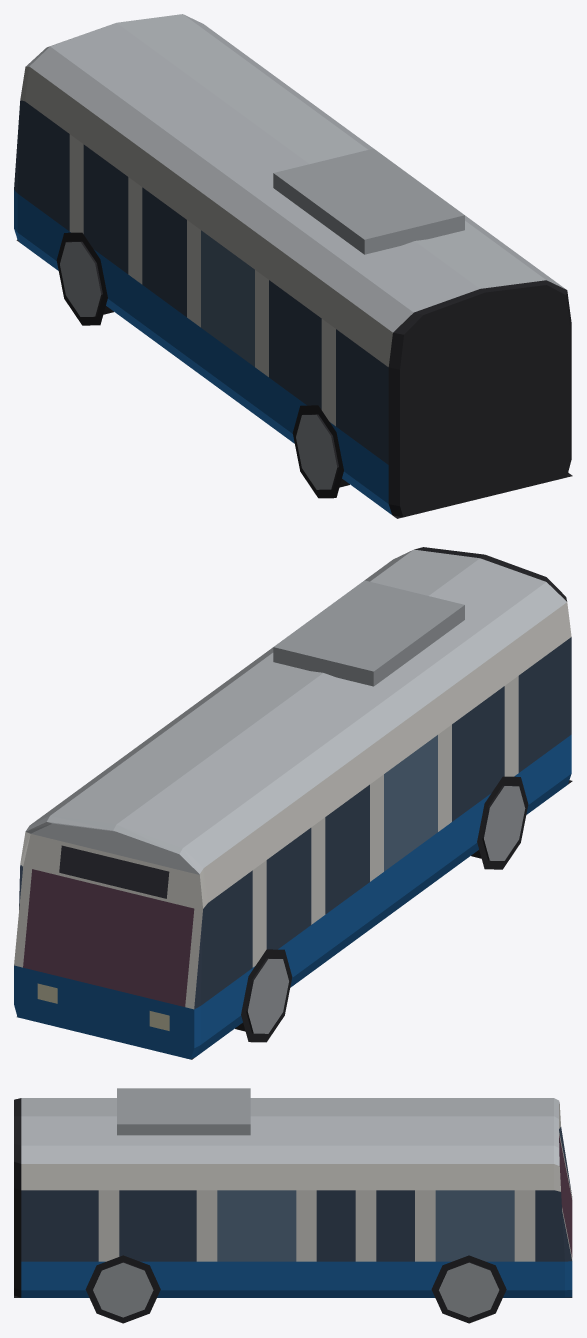
The model's file is trolley_vorne.glb.
The picture shows the model from 3 angles, top to bottom: view 1: azimuth 30°, elevation 25°; view 2: azimuth 150°, elevation 25°; view 3: azimuth 270°, elevation 25°; orthographic projection. The views are drawn at different scales.
Visible parts, largest first — view 1: body; view 2: body, display; view 3: body.
Boxes of the visible parts, box(x1,y1,x2,y2) form: body: box(14, 14, 572, 518); body: box(14, 547, 572, 1059); display: box(59, 845, 169, 898); body: box(14, 1088, 572, 1323).
Bounding box in the file's own units: 2.62 × 3.35 × 9.21.
